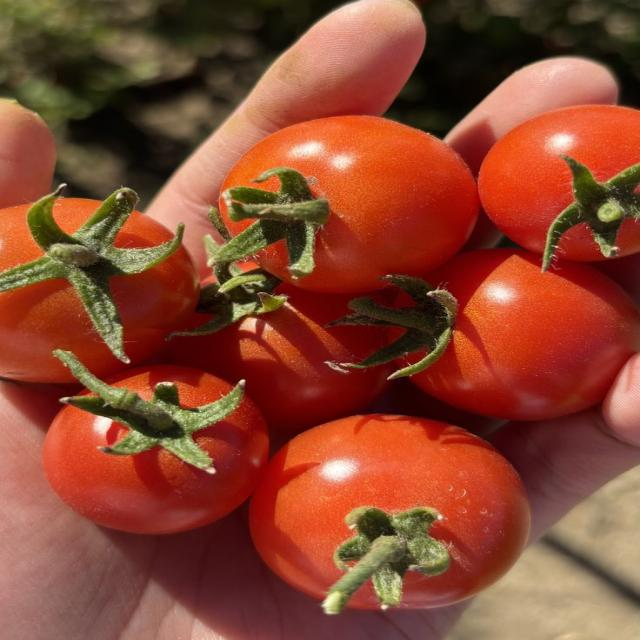tomato: (250, 415, 529, 608), (222, 116, 478, 292), (411, 249, 639, 420), (169, 283, 391, 432), (43, 397, 268, 533), (479, 105, 639, 253), (0, 278, 124, 381)
